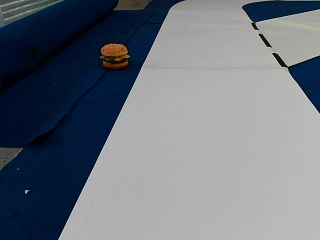burger: (99, 42, 129, 68)
